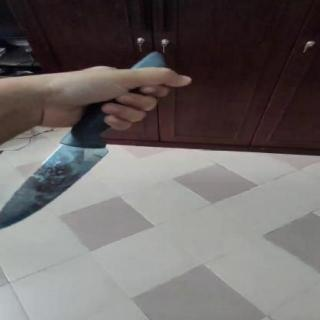knife: (0, 143, 113, 236)
